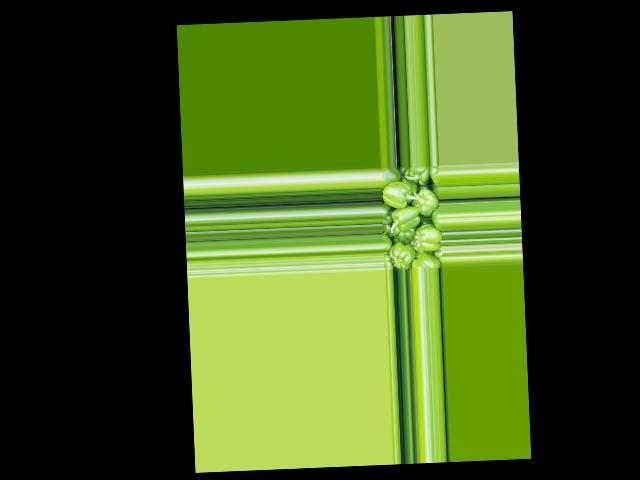bell_pepper: (380, 166, 400, 190)
